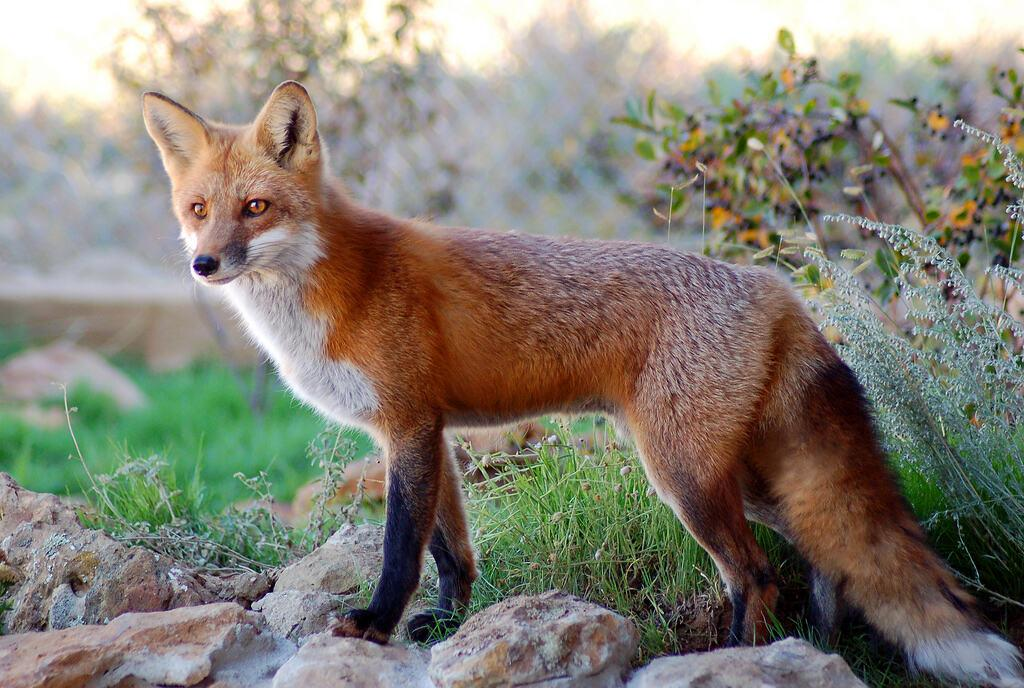fox: (124, 76, 1024, 688)
